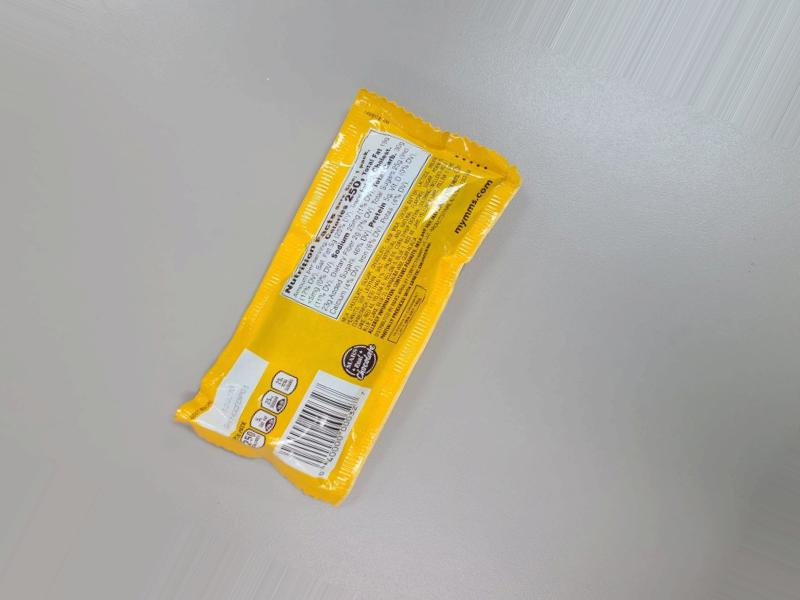m&m: (144, 166, 529, 509)
